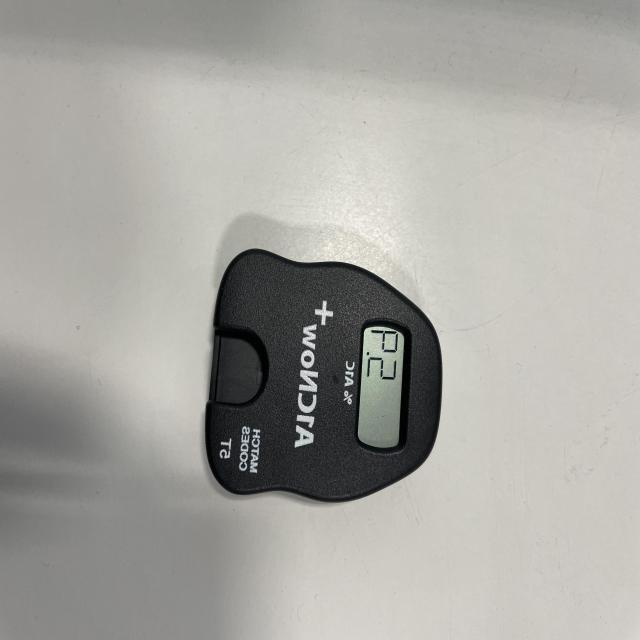hba1c: (203, 248, 444, 506)
